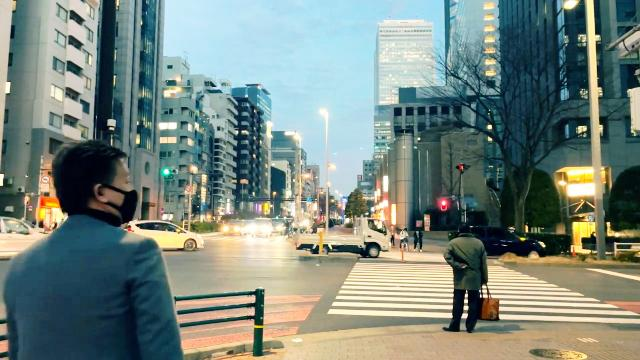berdiri: (438, 220, 498, 340)
berjalan: (1, 134, 186, 360)
